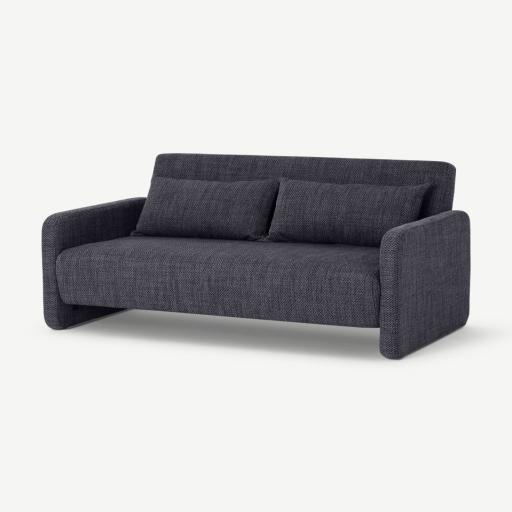back_cushion: (269, 178, 427, 246)
left_arm: (380, 211, 470, 359)
right_arm: (42, 198, 145, 329)
seat_cushion: (55, 236, 380, 327)
two-seater: (0, 0, 511, 512)
